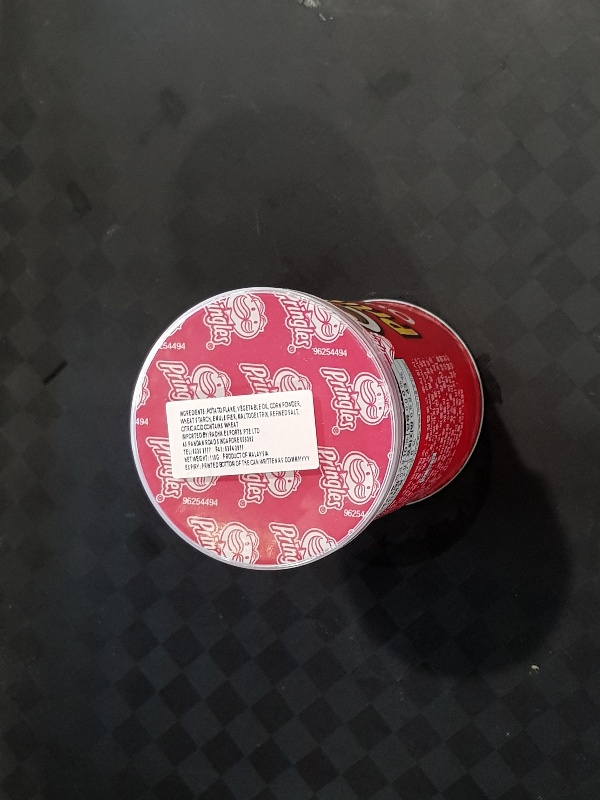Pringles Original: (126, 283, 485, 574)
